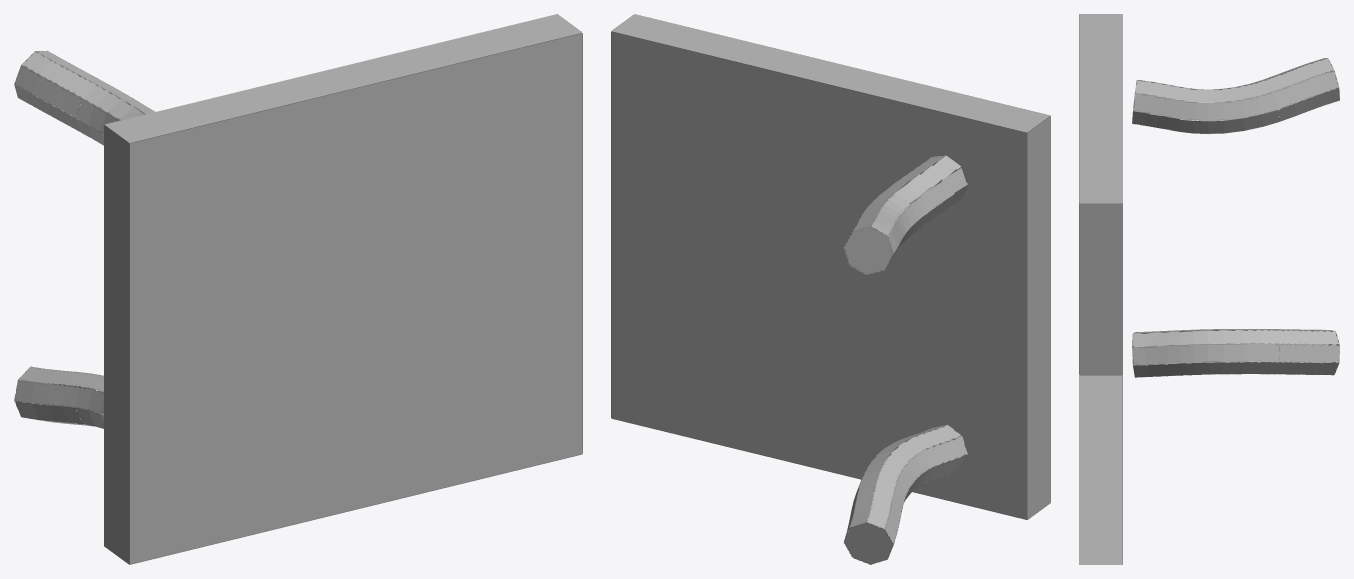
The model's file is pz_table_tables_low_01_long_fancy_0_0.obj.
3 views of the same model, side by side, from view 1: azimuth 30°, elevation 25°; view 2: azimuth 150°, elevation 25°; view 3: azimuth 270°, elevation 25° (orthographic). The views are drawn at different scales.
Size of the model in its own units: 0.5625 by 0.5 by 0.3272.
1 material, 1 textured.
